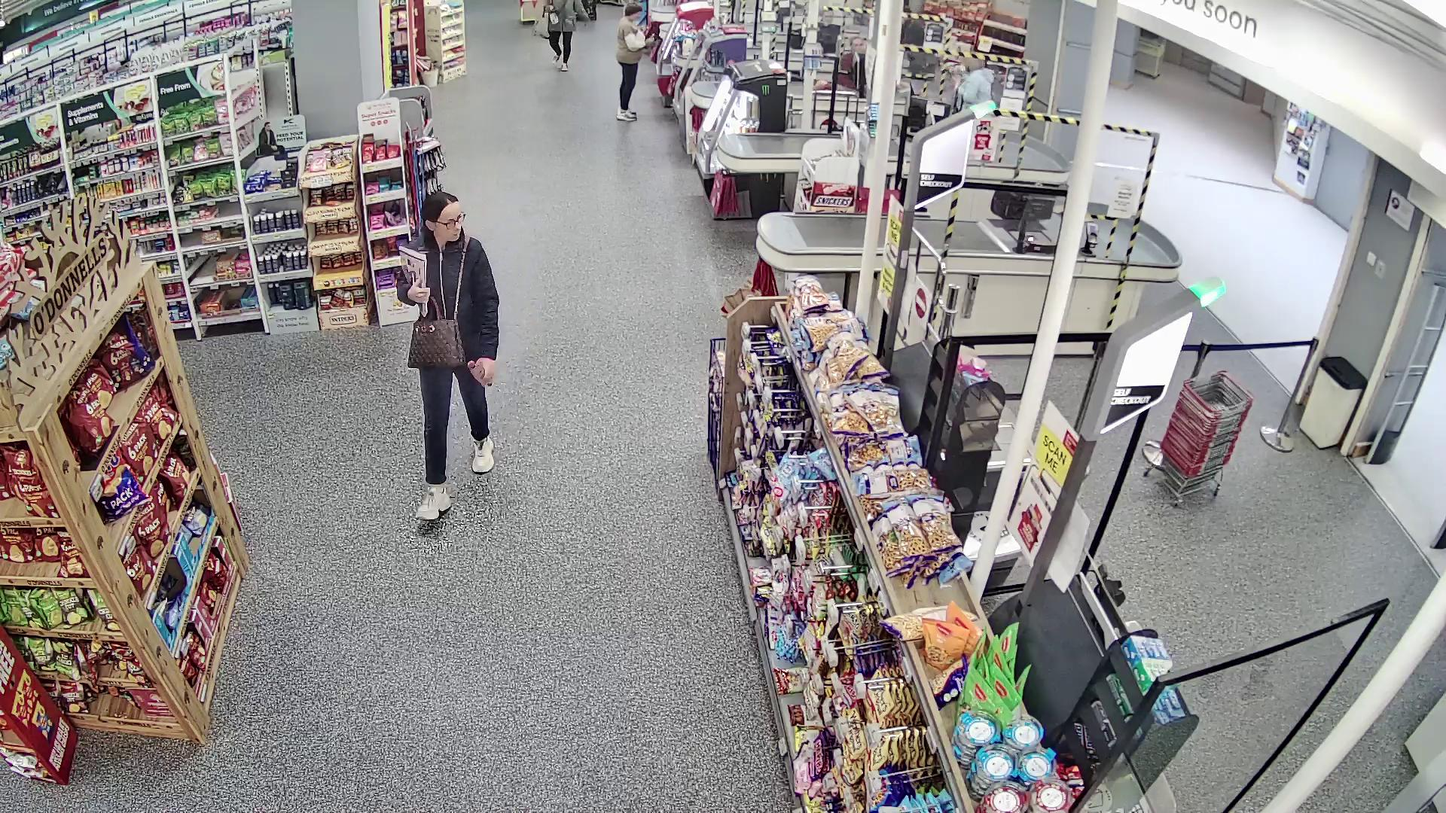backpack-or-handbag: (407, 316, 465, 369)
carrying-item: (397, 245, 429, 317), (467, 360, 493, 387)
person: (395, 191, 501, 524)
person-with-backpack-handbag-and-carrying-item-s-: (395, 189, 501, 525)
